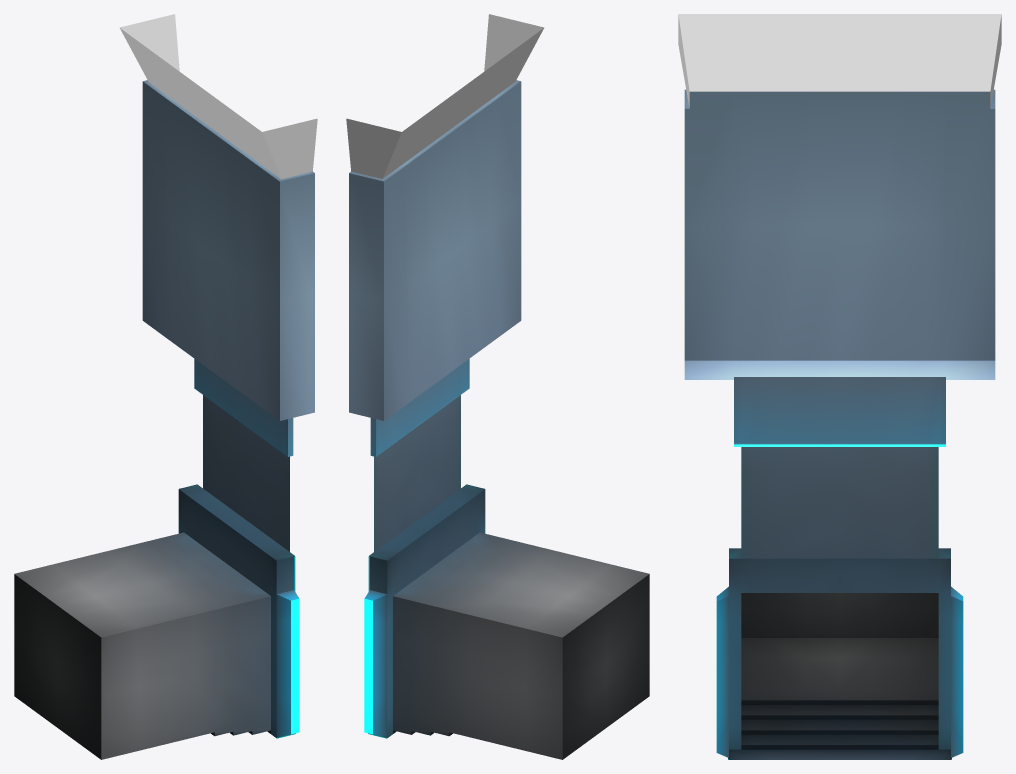
The model's file is Entrance.fbx.
3 views of the same model, side by side, from view 1: azimuth 30°, elevation 25°; view 2: azimuth 150°, elevation 25°; view 3: azimuth 270°, elevation 25° (orthographic). The views are drawn at different scales.
Visible parts, largest first — view 1: Room.132; view 2: Room.132; view 3: Room.132.
Boxes of the visible parts, x1,y1,x2,y2 form: Room.132: (14,14,317,759); Room.132: (346,14,649,759); Room.132: (678,14,1001,759).
Size of the model in its own units: 1000 by 3200 by 1310.
